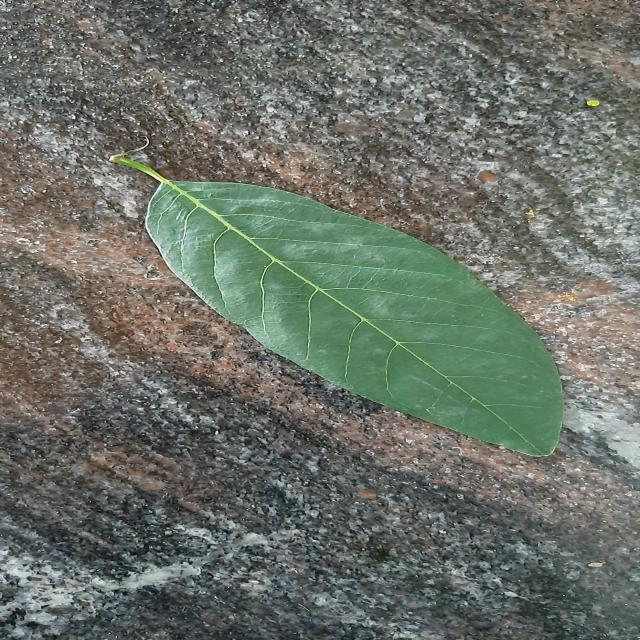seethaphala: (111, 155, 564, 456)
